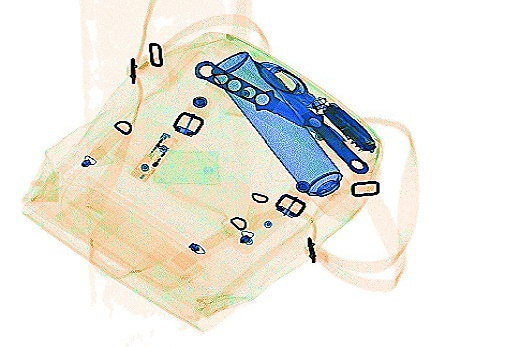handcuffs: (252, 55, 327, 110)
knife: (252, 59, 370, 174), (192, 58, 347, 144), (319, 98, 376, 155)
lighter: (128, 127, 178, 184)
pressure: (209, 49, 357, 218)
